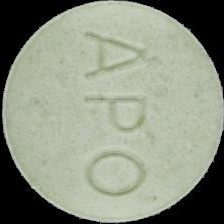0904-5893: (0, 0, 224, 224)
